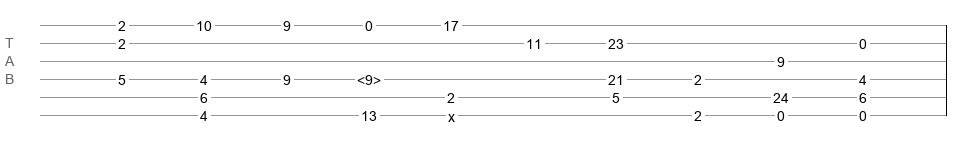0: (365, 18, 373, 28), (777, 108, 785, 118), (859, 36, 867, 46), (859, 108, 867, 118)
10: (196, 18, 212, 28)
11: (526, 36, 542, 46)
13: (361, 108, 377, 118)
17: (443, 18, 459, 28)
2: (118, 36, 126, 46), (118, 18, 126, 28), (447, 90, 455, 100), (694, 72, 702, 82), (694, 108, 702, 118)
21: (608, 72, 624, 82)
23: (608, 36, 624, 46)
24: (773, 90, 789, 100)
4: (200, 108, 208, 118), (200, 72, 208, 82), (859, 72, 867, 82)
5: (118, 72, 126, 82), (612, 90, 620, 100)
6: (200, 90, 208, 100), (859, 90, 867, 100)
9: (283, 18, 291, 28), (283, 72, 291, 82), (777, 54, 785, 64)
harmonic: (357, 72, 381, 82)
x: (448, 109, 455, 117)
